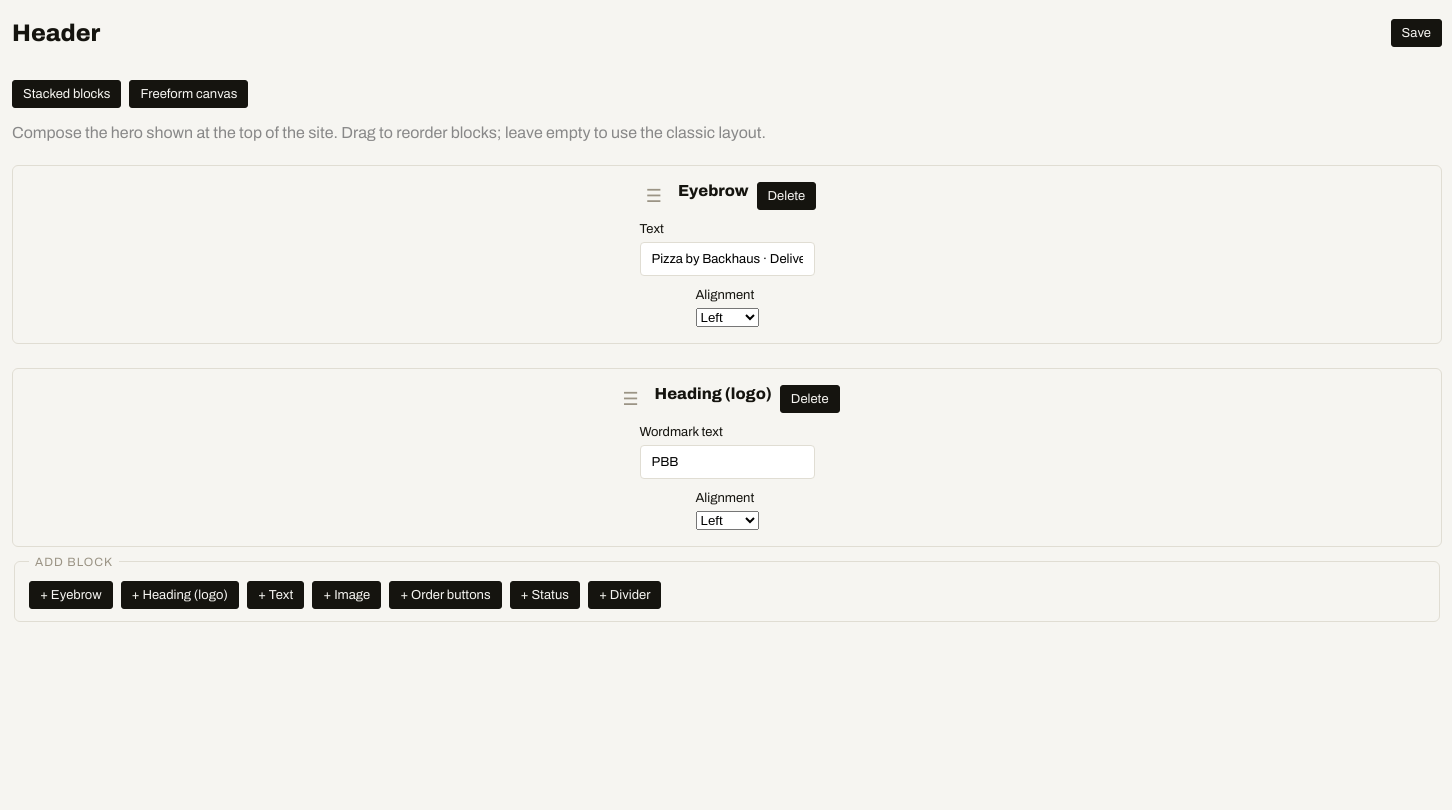
HeaderBuilder › switches to freeform canvas mode and back
Click the button "Freeform canvas" at [189, 94], box [129, 80, 248, 108]
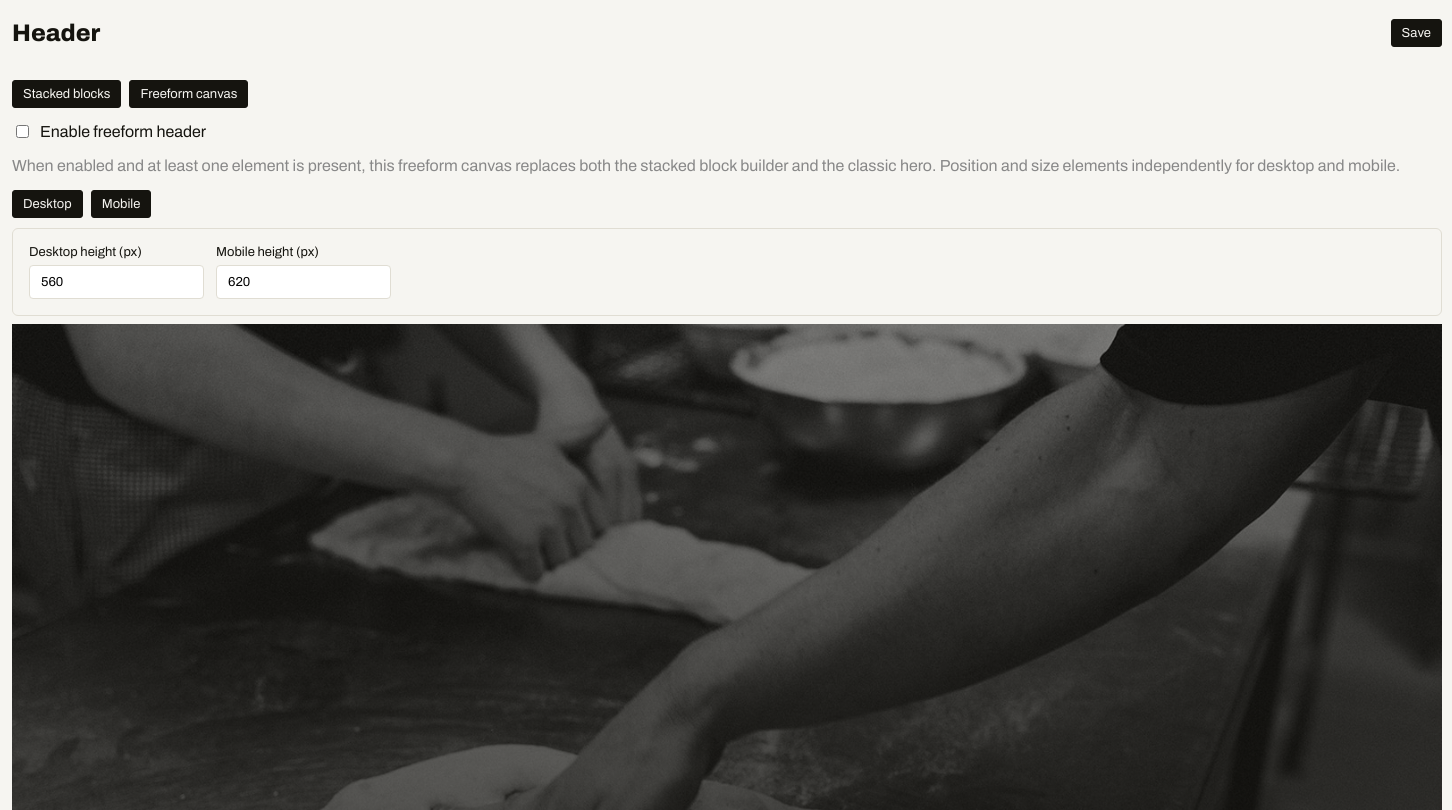
expect the checkbox labelled "Enable freeform header" is shown: met, box [16, 125, 29, 138]
Click the button "Stacked blocks" at [67, 94], box [12, 80, 121, 108]
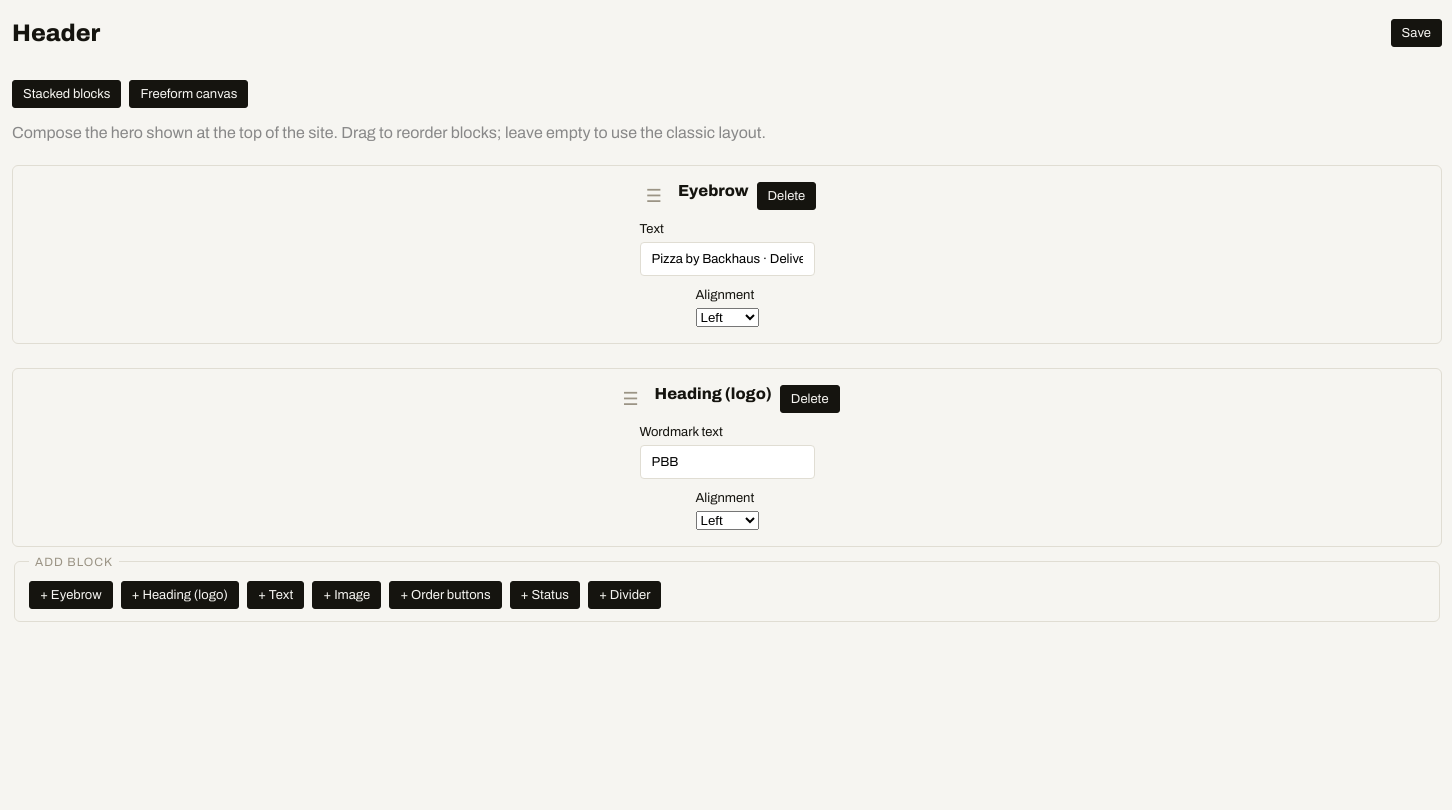
expect the number of list items is 2: met, box [12, 165, 1442, 344]; [12, 368, 1442, 547]
